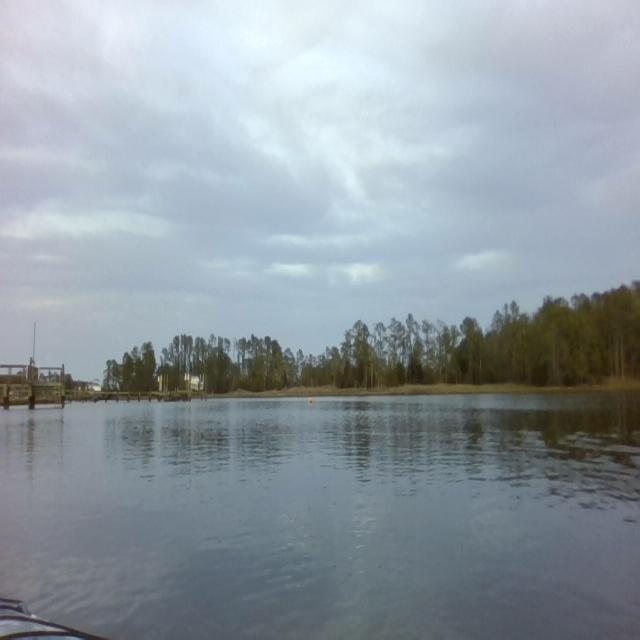Buoy: (307, 395, 314, 406)
